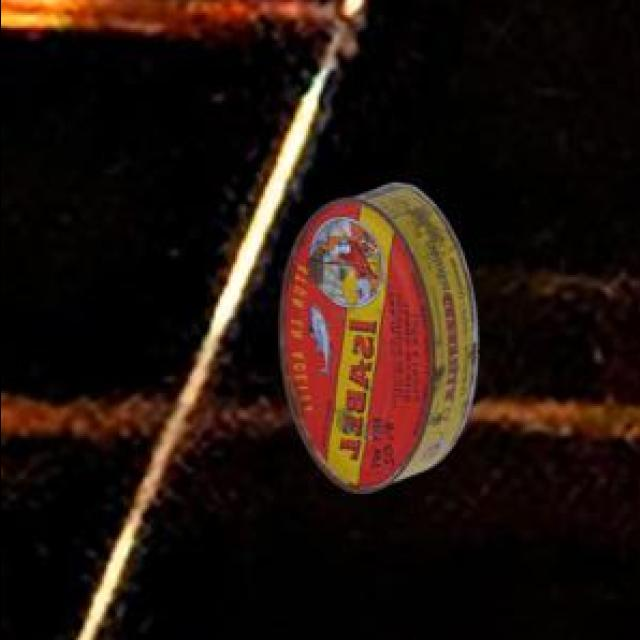logam: (276, 179, 474, 489)
